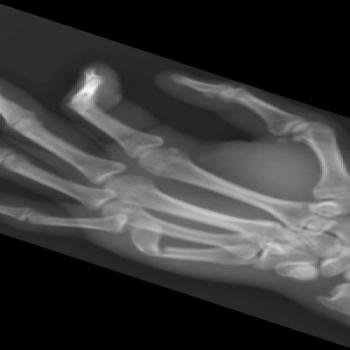Fracture: (131, 242, 182, 264)
